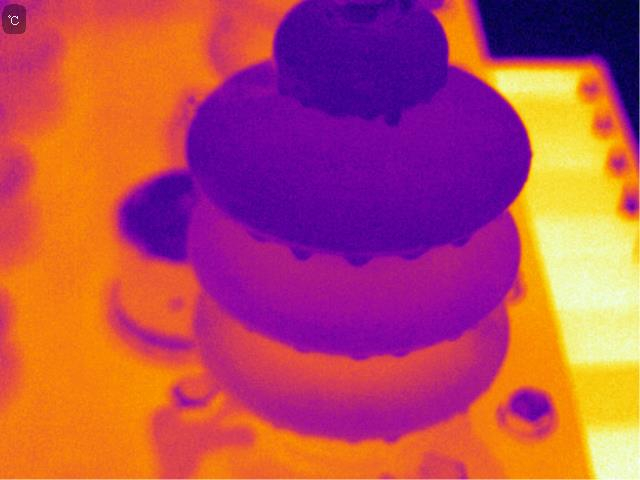Water: (342, 250, 378, 269), (396, 244, 429, 264), (287, 243, 317, 264), (246, 227, 274, 248), (444, 232, 473, 248), (380, 107, 400, 130), (379, 430, 404, 447), (344, 353, 377, 365), (292, 343, 318, 358), (341, 435, 367, 446), (356, 111, 378, 123), (445, 332, 466, 344), (392, 349, 415, 359)
